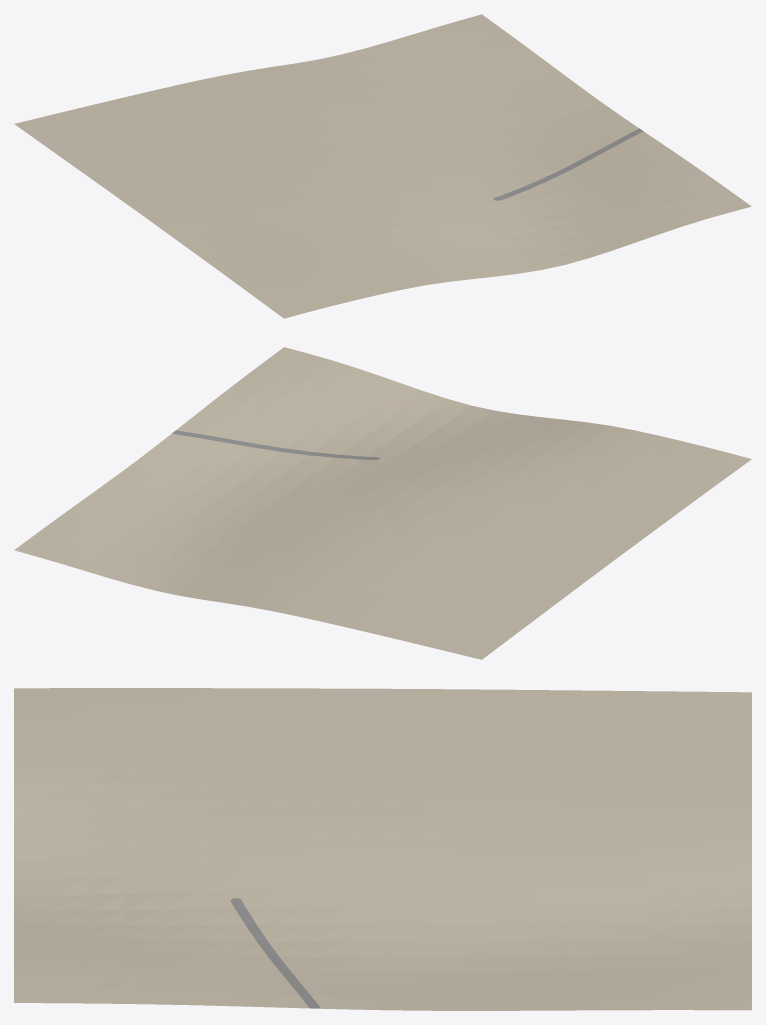
File: bolak_-27_5.glb
3 views of the same model, one above another, from view 1: azimuth 30°, elevation 25°; view 2: azimuth 150°, elevation 25°; view 3: azimuth 270°, elevation 25° (orthographic). The views are drawn at different scales.
Visible parts, largest first — view 1: Yer_Tuproq-col, Yol_Mahalla-col; view 2: Yer_Tuproq-col, Yol_Mahalla-col; view 3: Yer_Tuproq-col, Yol_Mahalla-col.
Boxes of the visible parts, x1,y1,x2,y2 form: Yer_Tuproq-col: [14, 14, 751, 318]; Yol_Mahalla-col: [493, 128, 643, 200]; Yer_Tuproq-col: [14, 347, 751, 659]; Yol_Mahalla-col: [172, 430, 379, 459]; Yer_Tuproq-col: [14, 688, 751, 1010]; Yol_Mahalla-col: [230, 898, 320, 1008].
Size of what is drawn, in the model's own units: 400 by 12.95 by 400.
